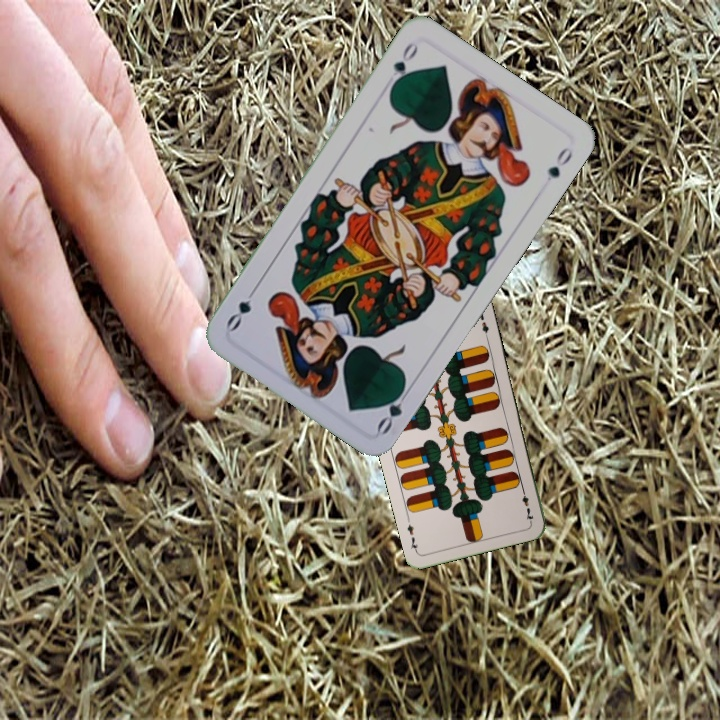E7: (518, 484, 536, 524)
GO: (373, 380, 414, 437), (386, 38, 421, 92)
